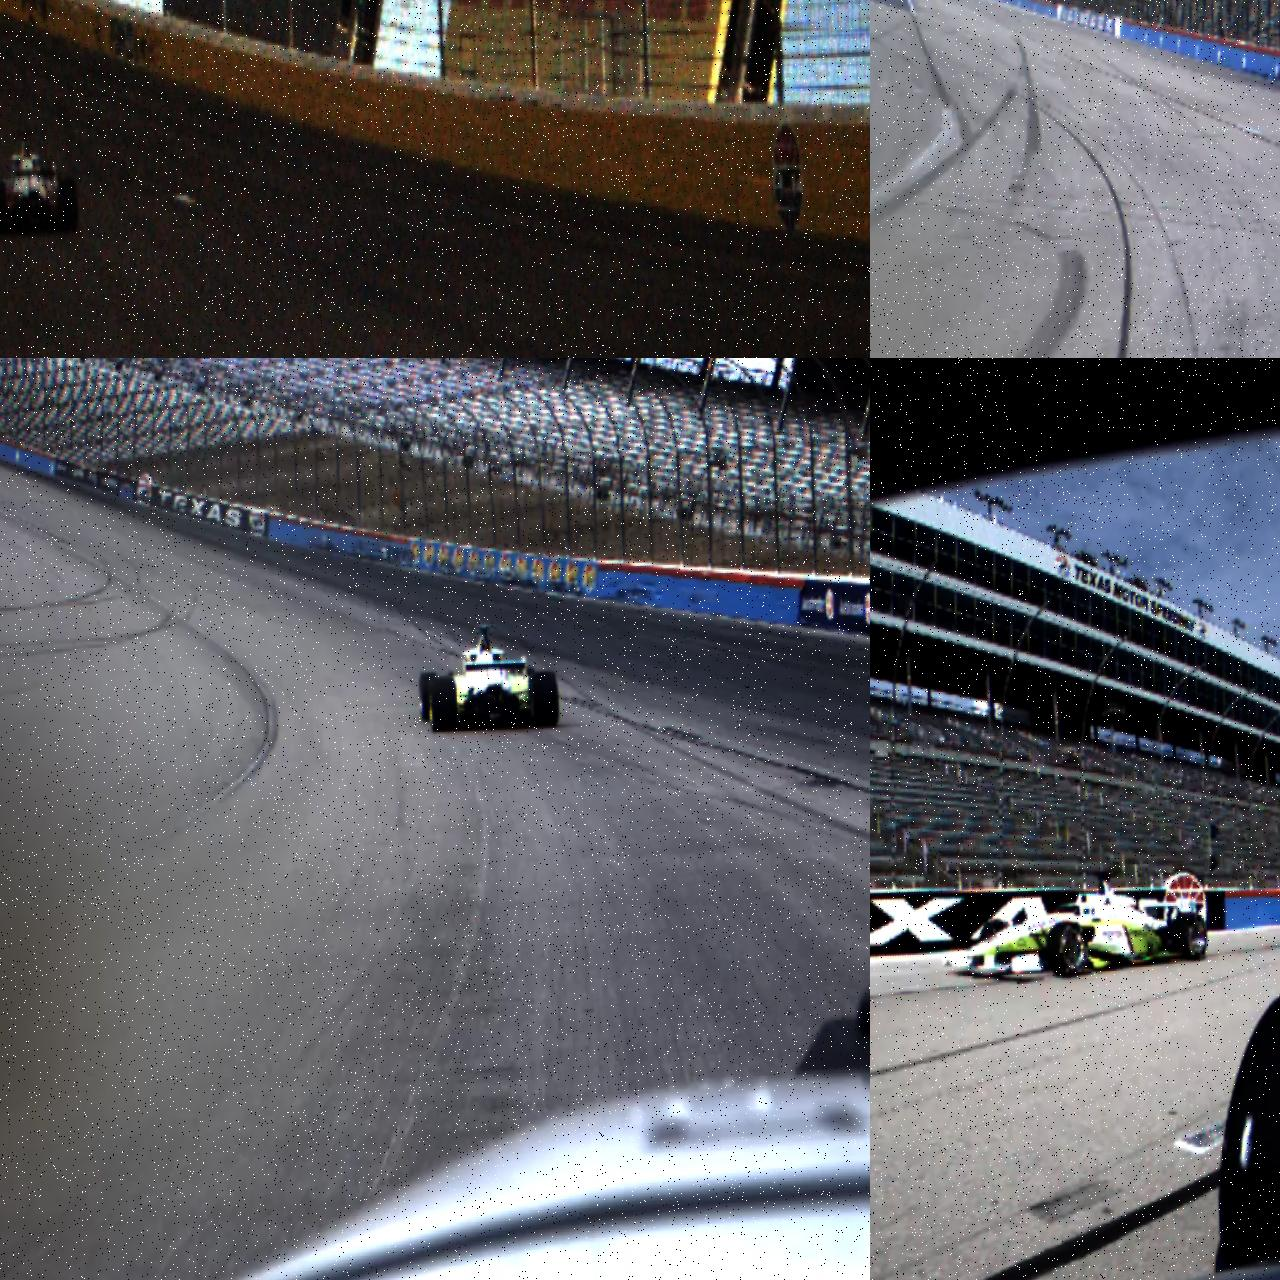AV: (940, 866, 1208, 982), (415, 621, 559, 733), (0, 128, 79, 237)
Wheel: (1210, 979, 1280, 1274), (1048, 920, 1089, 978), (978, 918, 1012, 973), (529, 670, 559, 729), (1175, 911, 1208, 962), (428, 676, 457, 733), (59, 176, 79, 234), (418, 670, 438, 722), (0, 181, 7, 236)
